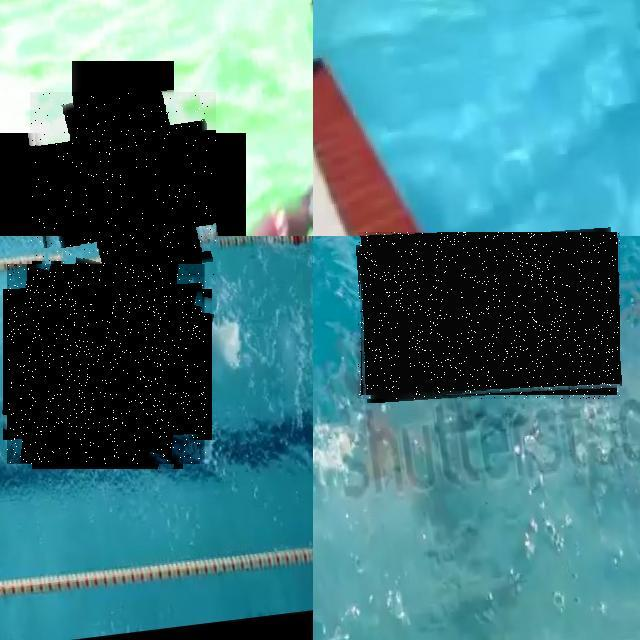3: (358, 232, 620, 399)
6: (8, 264, 208, 464)
drowning: (30, 92, 216, 277)
